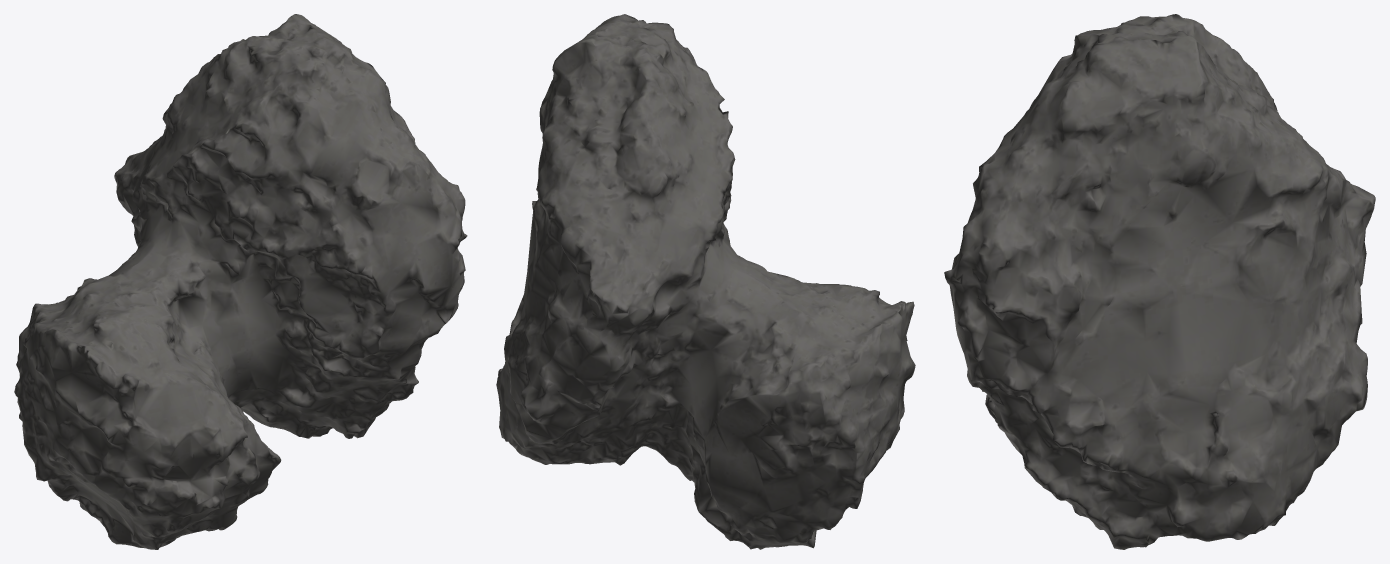
3 renders of one model, left to right at view 1: azimuth 30°, elevation 25°; view 2: azimuth 150°, elevation 25°; view 3: azimuth 270°, elevation 25°, orthographic. The views are drawn at different scales.
Parts seen in each view (by area): view 1: lowres_default1_0; view 2: lowres_default1_0; view 3: lowres_default1_0.
Boxes of the visible parts, left/top/right/bottom form: lowres_default1_0: left=14, top=14, right=467, bottom=549; lowres_default1_0: left=496, top=14, right=915, bottom=549; lowres_default1_0: left=944, top=14, right=1375, bottom=549.
Bounding box in the file's own units: 195 × 238 × 165.
1 material, 1 textured.
